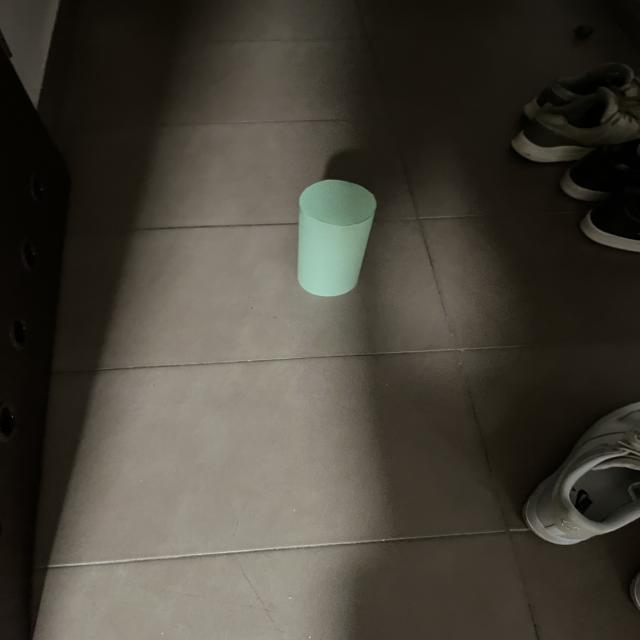meta: (297, 180, 376, 297)
